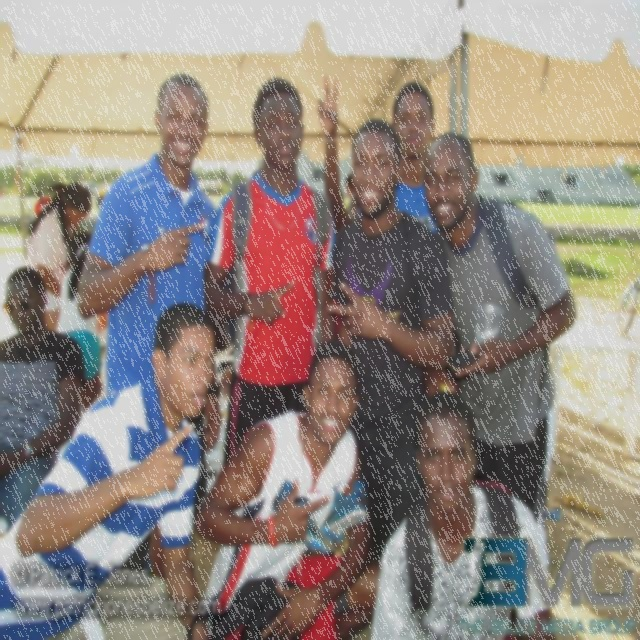pessoa: (0, 298, 218, 640), (76, 72, 218, 570), (418, 130, 580, 538), (326, 117, 457, 560), (192, 338, 382, 640), (201, 75, 340, 481), (363, 384, 565, 640), (0, 264, 87, 536), (356, 81, 462, 236), (53, 229, 105, 416), (23, 180, 94, 313), (316, 67, 360, 244), (216, 341, 238, 402), (33, 188, 53, 218), (96, 182, 111, 212)
